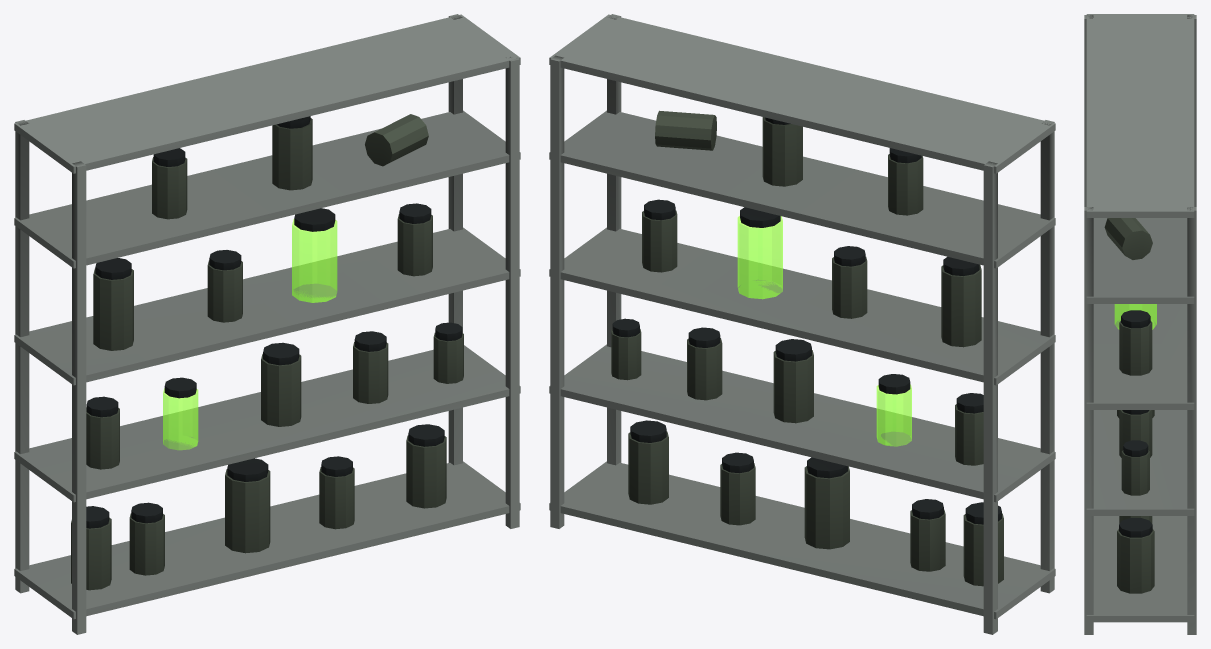
Rendered from jar_shelf.glb.
The picture shows the model from 3 angles, left to right: view 1: azimuth 30°, elevation 25°; view 2: azimuth 150°, elevation 25°; view 3: azimuth 270°, elevation 25°; orthographic projection. The views are drawn at different scales.
Visible parts, largest first — view 1: JarShelf; view 2: JarShelf; view 3: JarShelf.
Part boxes in pixels (left/top/right/bottom): JarShelf: left=14, top=14, right=520, bottom=634; JarShelf: left=549, top=14, right=1055, bottom=634; JarShelf: left=1084, top=14, right=1196, bottom=634.
Bounding box in the file's own units: 2 × 2 × 0.48.
